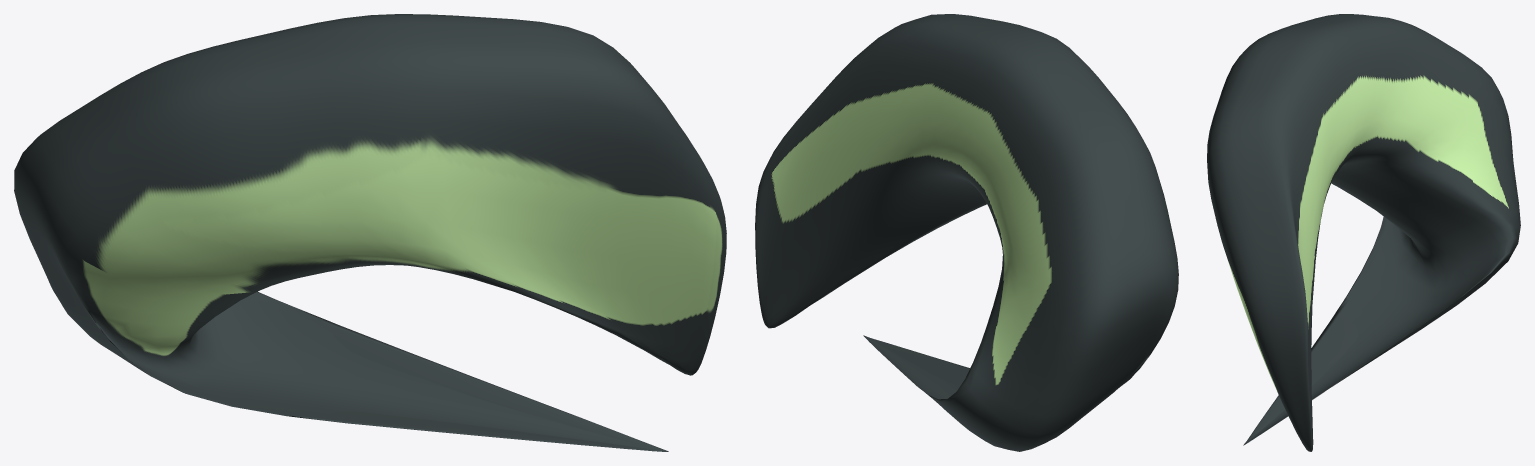
The model's file is ponetail_test3.obj.
3 renders of one model, left to right at view 1: azimuth 30°, elevation 25°; view 2: azimuth 150°, elevation 25°; view 3: azimuth 270°, elevation 25°, orthographic. The views are drawn at different scales.
Parts seen in each view (by area): view 1: Cube; view 2: Cube; view 3: Cube.
Part boxes in pixels (box(x1,y1,x2,y2)): Cube: box(14, 14, 726, 451); Cube: box(755, 14, 1178, 451); Cube: box(1207, 14, 1520, 451).
Bounding box in the file's own units: 33.64 × 24.54 × 21.51.
